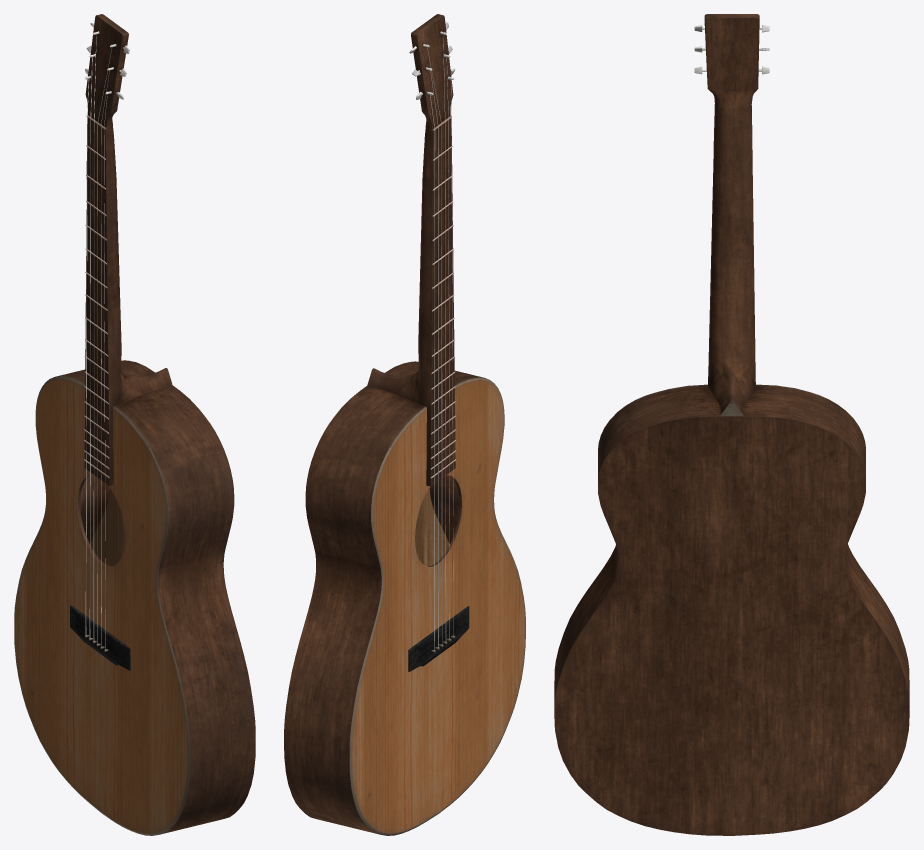
File: obj_acoustic_guitar_free_cc738f.glb
3 views of the same model, side by side, from view 1: azimuth 30°, elevation 25°; view 2: azimuth 150°, elevation 25°; view 3: azimuth 270°, elevation 25° (orthographic).
Parts seen in each view (by area): view 1: obj_acoustic_guitar_free_cc738f; view 2: obj_acoustic_guitar_free_cc738f; view 3: obj_acoustic_guitar_free_cc738f.
Part boxes in pixels (x1=…): obj_acoustic_guitar_free_cc738f: x1=14, y1=14, x2=255, y2=835; obj_acoustic_guitar_free_cc738f: x1=284, y1=14, x2=525, y2=835; obj_acoustic_guitar_free_cc738f: x1=554, y1=14, x2=909, y2=835.
Bounding box in the file's own units: 0.096 × 1 × 0.4027.
Materials: 1 (1 with a texture image).
